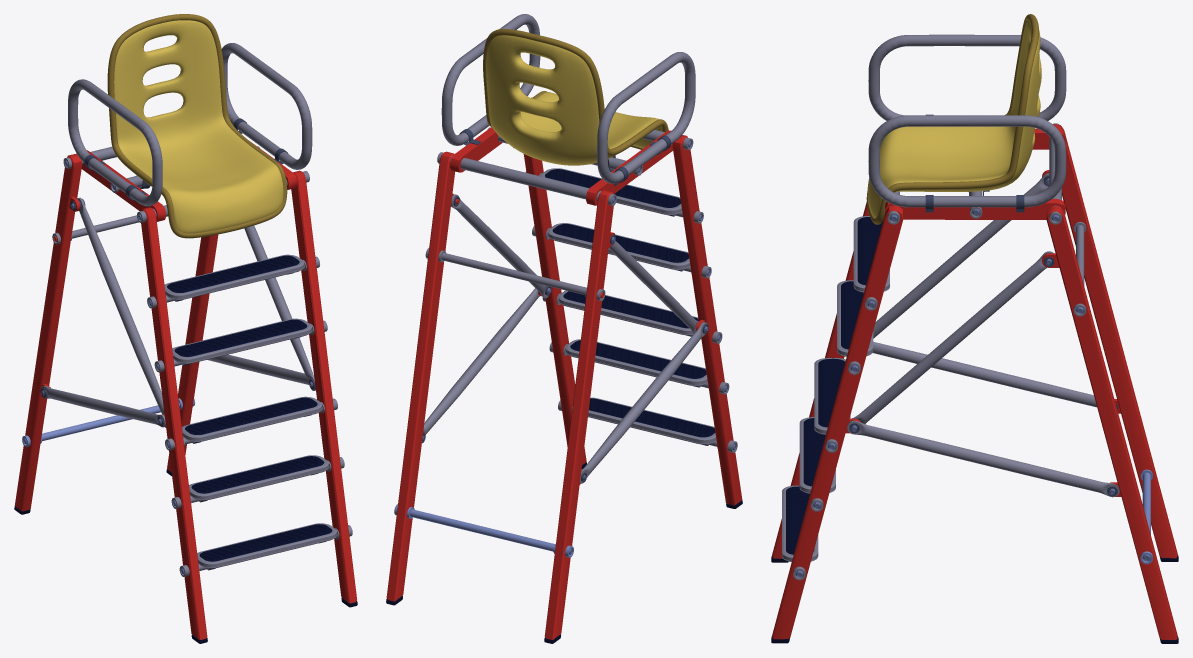
Rendered from SM_RESCUE TOWER_0001.fbx.
The picture shows the model from 3 angles, left to right: view 1: azimuth 30°, elevation 25°; view 2: azimuth 150°, elevation 25°; view 3: azimuth 270°, elevation 25°; orthographic projection. The views are drawn at different scales.
Parts seen in each view (by area): view 1: Cube (4); view 2: Cube (4); view 3: Cube (4).
Boxes of the visible parts, left/top/right/bottom form: Cube (4): left=14, top=14, right=357, bottom=643; Cube (4): left=386, top=14, right=742, bottom=643; Cube (4): left=771, top=14, right=1178, bottom=643.
Size of the model in its own units: 117 by 345 by 222.
